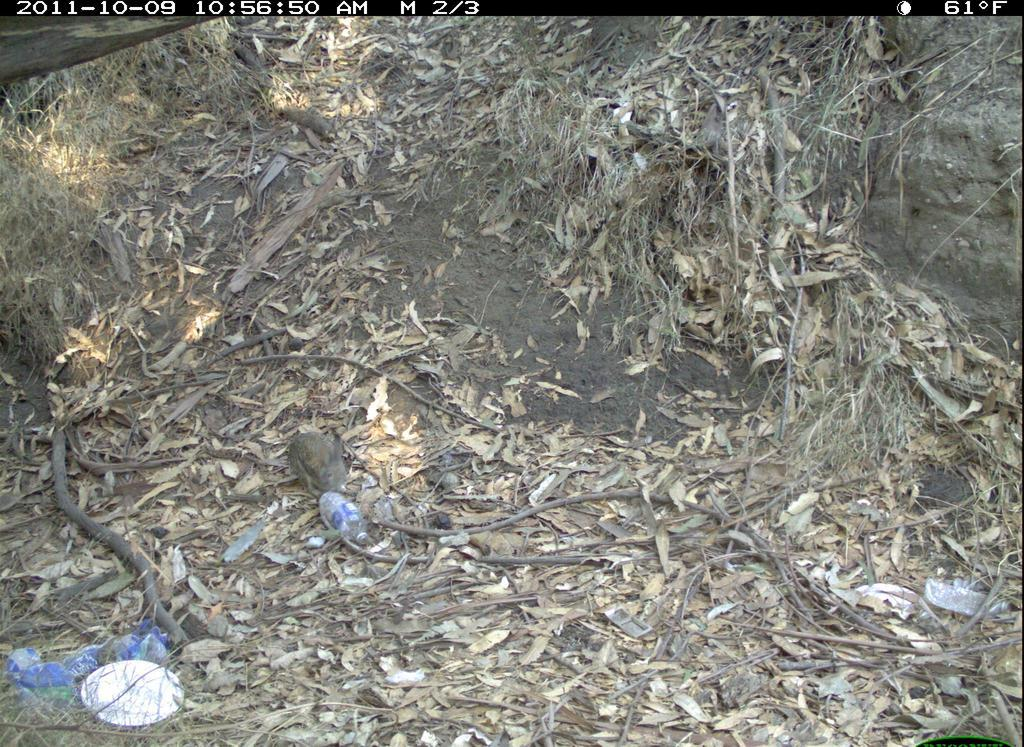rabbit: (276, 420, 369, 516)
